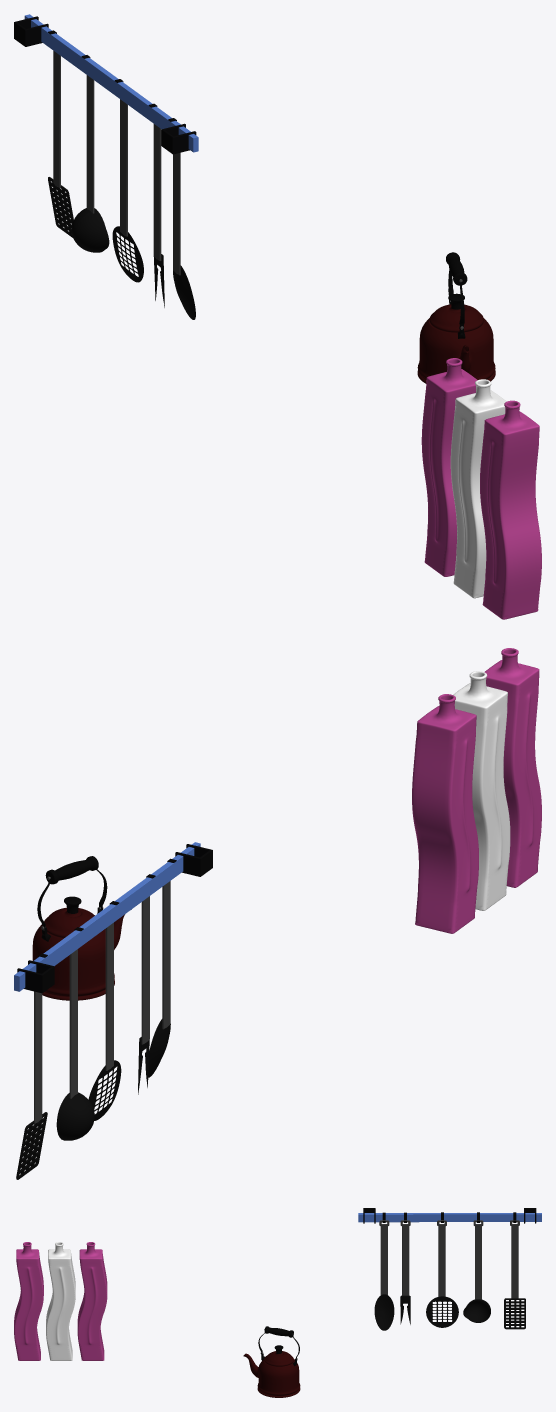
Rendered from homeKitchenware.FBX.
3 renders of one model, top to bottom at view 1: azimuth 30°, elevation 25°; view 2: azimuth 150°, elevation 25°; view 3: azimuth 270°, elevation 25°, orthographic. The views are drawn at different scales.
Visible parts, largest first — view 1: obj_03, obj_02, obj_01, Circle007, Box014, Sphere01, Rectangle5, Rectangle009, Object005, Rectangle007, Rectangle011, Rectangle6 (+2 smaller); view 2: obj_01, obj_03, obj_02, Box014, Circle007, Sphere01, Rectangle5, Rectangle6, Rectangle009, Rectangle011, Rectangle007, Rectangle008 (+6 smaller); view 3: obj_01, obj_03, obj_02, Box014, Circle007, Rectangle008, Cylinder011, Rectangle007, Rectangle011, Rectangle009, Rectangle6, Line004 (+3 smaller).
Boxes of the visible parts, x1=… form: obj_03: x1=480, y1=400, x2=541, y2=619; obj_02: x1=450, y1=379, x2=506, y2=598; obj_01: x1=421, y1=358, x2=477, y2=576; Circle007: x1=417, y1=318, x2=495, y2=383; Box014: x1=24, y1=14, x2=198, y2=152; Sphere01: x1=71, y1=208, x2=109, y2=252; Rectangle5: x1=86, y1=75, x2=94, y2=213; Rectangle009: x1=153, y1=124, x2=161, y2=260; Object005: x1=429, y1=304, x2=483, y2=332; Rectangle007: x1=53, y1=51, x2=60, y2=187; Rectangle011: x1=120, y1=99, x2=127, y2=236; Rectangle6: x1=173, y1=152, x2=180, y2=275; obj_01: x1=412, y1=694, x2=478, y2=933; obj_03: x1=484, y1=648, x2=541, y2=887; obj_02: x1=453, y1=671, x2=510, y2=910; Box014: x1=14, y1=842, x2=200, y2=991; Circle007: x1=32, y1=909, x2=131, y2=1000; Sphere01: x1=56, y1=1092, x2=94, y2=1140; Rectangle5: x1=69, y1=949, x2=77, y2=1098; Rectangle6: x1=162, y1=881, x2=170, y2=1029; Rectangle009: x1=141, y1=896, x2=149, y2=1044; Rectangle011: x1=105, y1=922, x2=113, y2=1070; Rectangle007: x1=34, y1=991, x2=42, y2=1123; Rectangle008: x1=16, y1=1112, x2=47, y2=1179; obj_01: x1=77, y1=1242, x2=107, y2=1360; obj_03: x1=14, y1=1242, x2=43, y2=1360; obj_02: x1=46, y1=1242, x2=75, y2=1360; Box014: x1=358, y1=1213, x2=541, y2=1222; Circle007: x1=243, y1=1353, x2=300, y2=1397; Rectangle008: x1=504, y1=1298, x2=525, y2=1329; Cylinder011: x1=426, y1=1296, x2=458, y2=1327; Rectangle007: x1=510, y1=1220, x2=519, y2=1298; Rectangle011: x1=437, y1=1220, x2=446, y2=1296; Rectangle009: x1=400, y1=1220, x2=410, y2=1295; Rectangle6: x1=379, y1=1220, x2=389, y2=1294; Line004: x1=374, y1=1294, x2=394, y2=1330.
Bounding box in the file's own units: 13.76 × 13.93 × 47.7.
